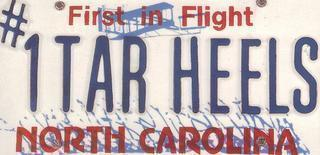placa de veiculo: (7, 3, 320, 155)
